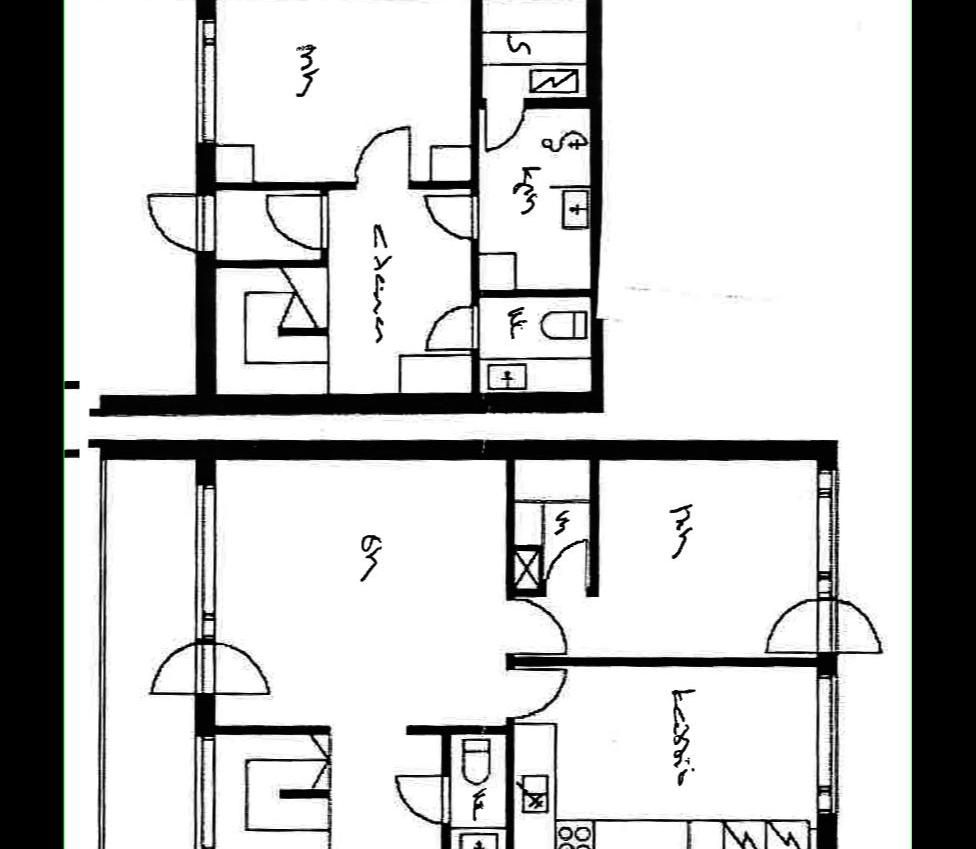door: (145, 190, 222, 260), (144, 635, 216, 701), (194, 637, 274, 696), (764, 592, 842, 652), (503, 591, 570, 657), (350, 124, 418, 188), (504, 664, 571, 725), (264, 193, 332, 253), (823, 592, 883, 657), (394, 770, 454, 830), (420, 300, 482, 354), (422, 189, 482, 243), (542, 532, 590, 598), (480, 94, 528, 154)
window: (180, 479, 220, 644), (180, 6, 223, 152), (806, 462, 848, 600), (811, 664, 843, 819), (183, 729, 222, 849)
